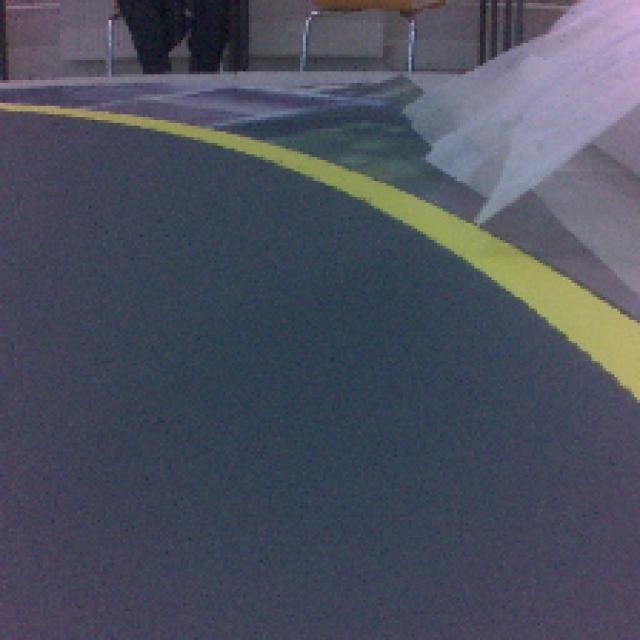Road: (0, 327, 638, 638)
